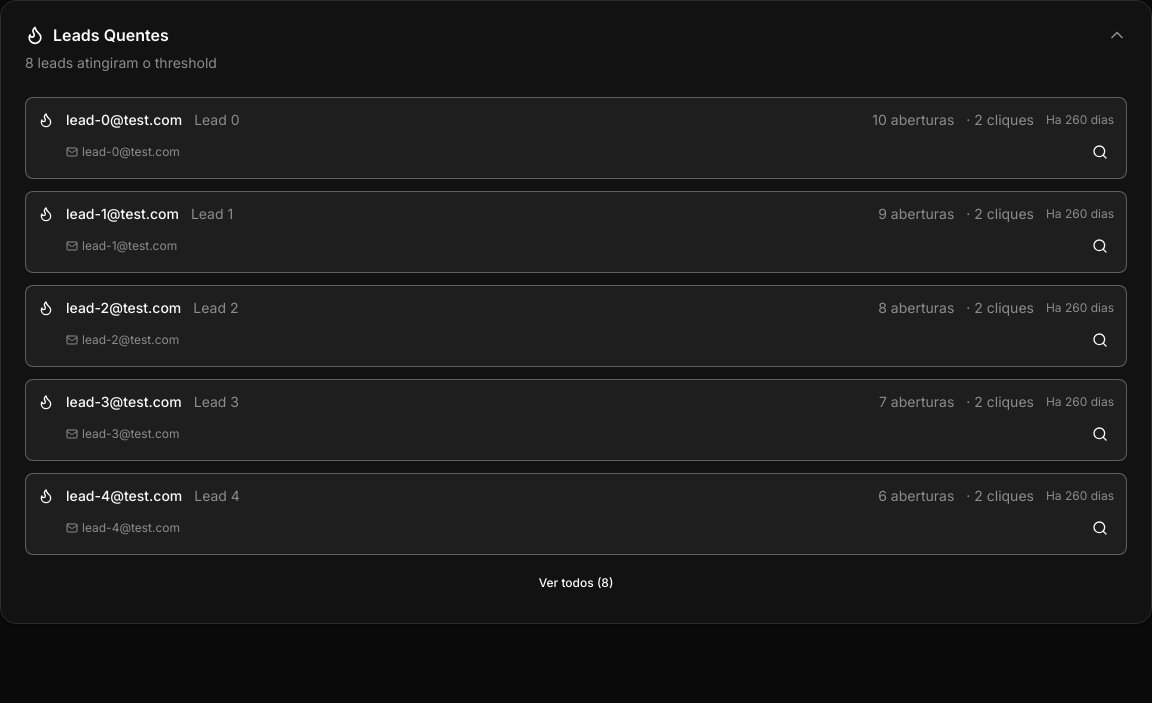
Test case: OpportunityPanel › limite de leads visiveis › exibe todos os leads ao clicar 'Ver todos'
Click the button with test id "show-all-leads-button" at [576, 583], box [527,567,625,599]
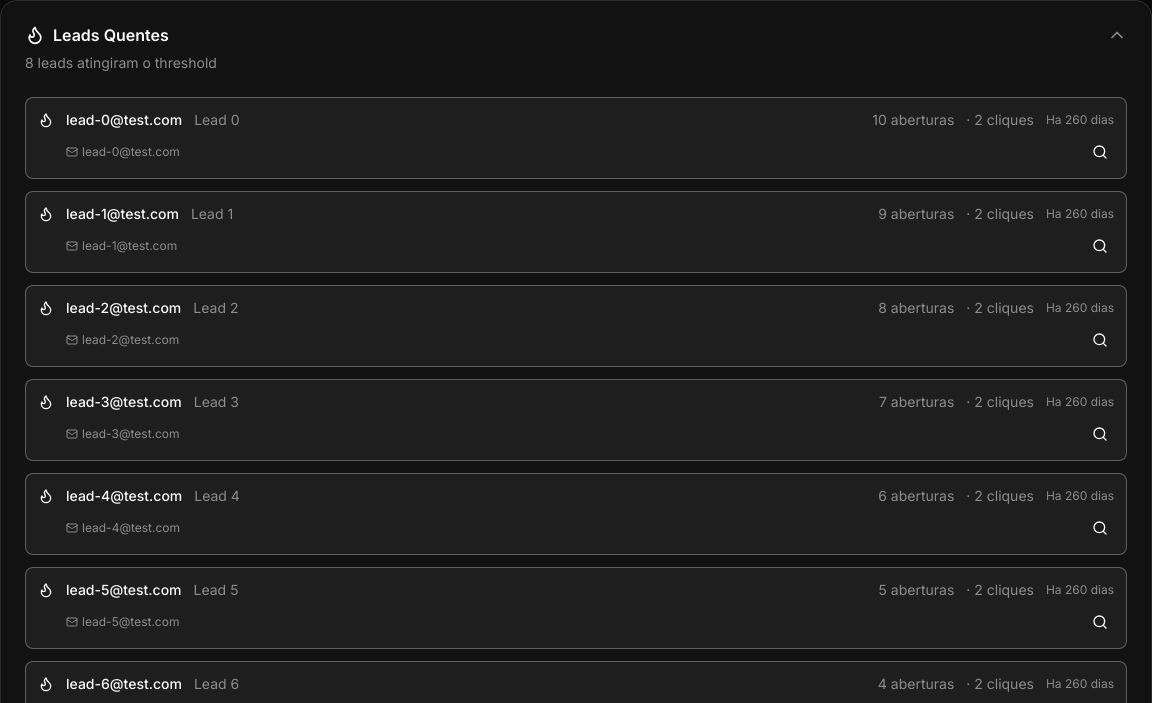
expect the number of elements with test id "opportunity-lead-row" is 8: met
expect the button with test id "show-all-leads-button" is gone: met
